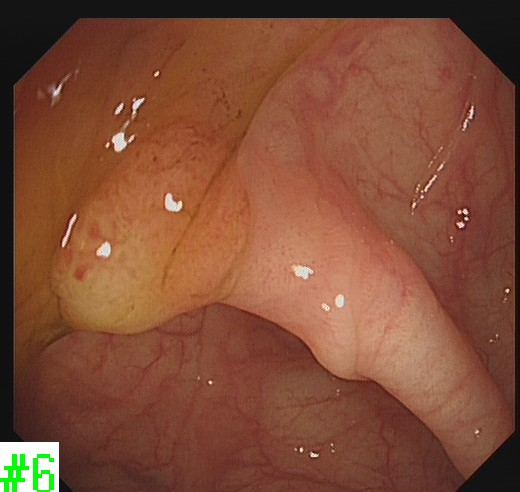adenoma: (46, 123, 252, 338)
